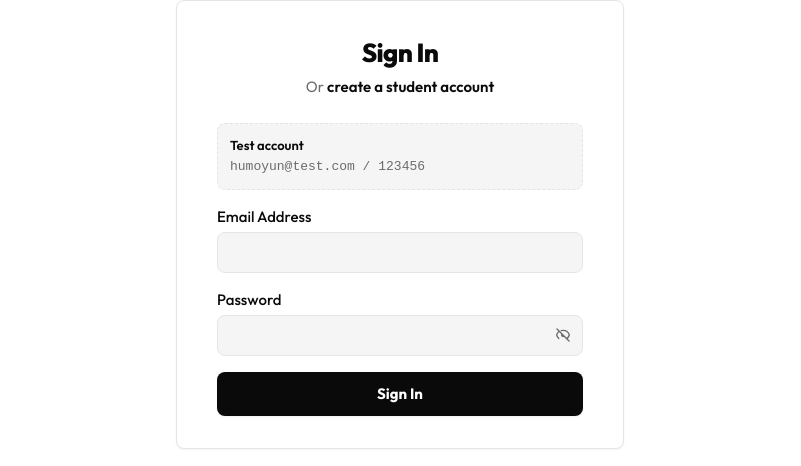
Scenario: AuthPanel › exam list states › shows graded as a label, with nothing to click
Type "s@example.com" into the field labelled "Email Address" at (400, 252), box [217, 232, 583, 272]
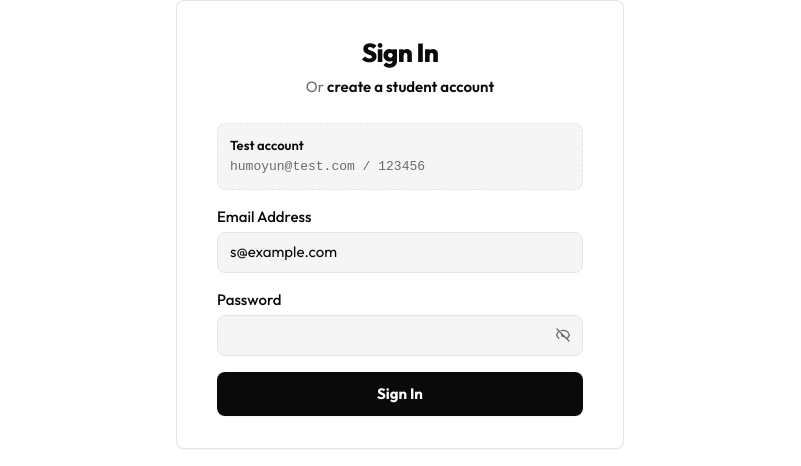
Type "Test1234!" into the password field labelled "Password" at (400, 335), box [217, 315, 583, 356]
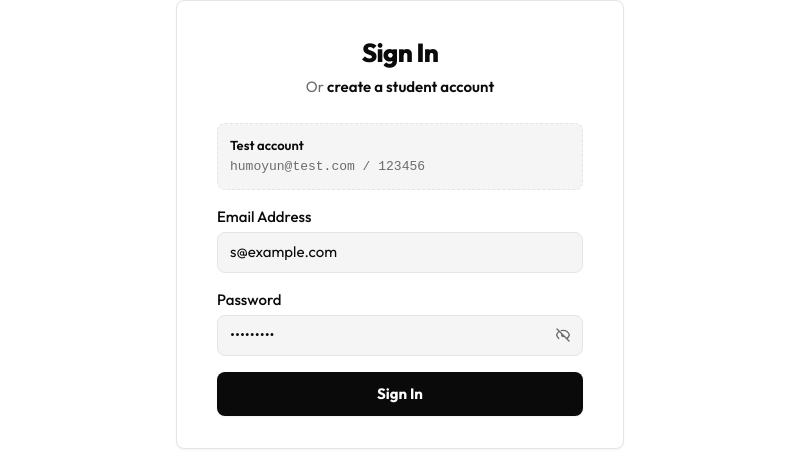
Click the button "Sign In" at (400, 394), box [217, 372, 583, 416]
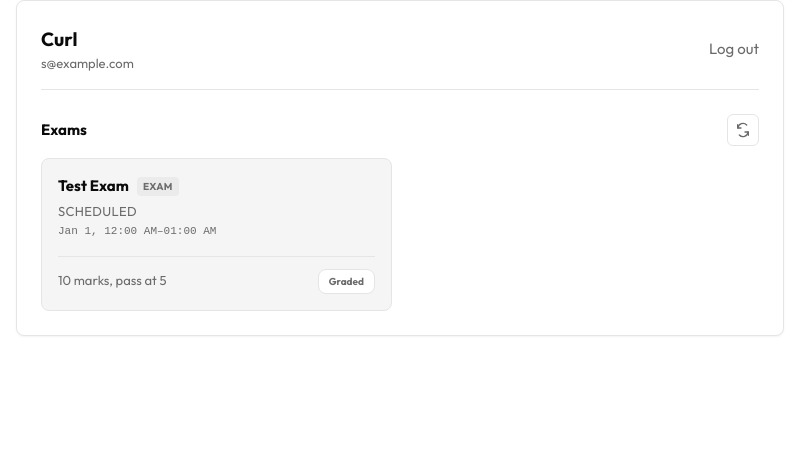
Expected: the heading "Test Exam" is shown, [58, 175, 129, 198]
Expected: the text "Graded" is shown, [318, 268, 375, 294]
